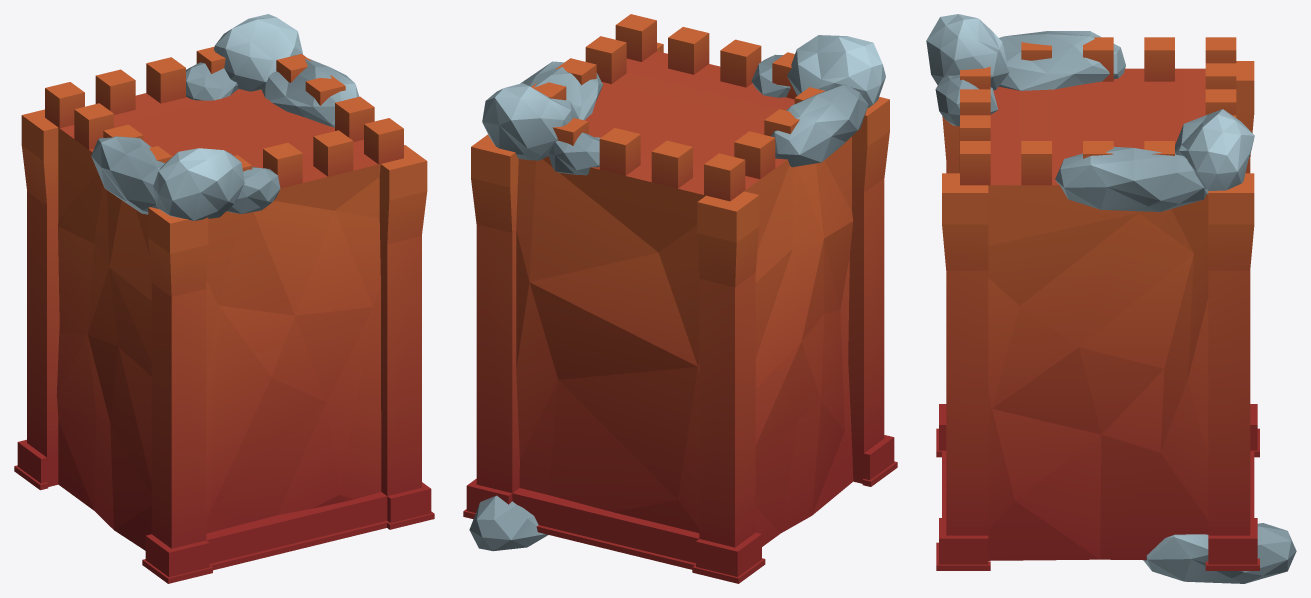
File: SM_Tower_Cube_Big.fbx
3 renders of one model, left to right at view 1: azimuth 30°, elevation 25°; view 2: azimuth 150°, elevation 25°; view 3: azimuth 270°, elevation 25°, orthographic. The views are drawn at different scales.
Parts seen in each view (by area): view 1: SM_Tower_Cube_Big; view 2: SM_Tower_Cube_Big; view 3: SM_Tower_Cube_Big.
Boxes of the visible parts, x1,y1,x2,y2 form: SM_Tower_Cube_Big: [14, 14, 434, 583]; SM_Tower_Cube_Big: [463, 14, 897, 583]; SM_Tower_Cube_Big: [926, 14, 1296, 583].
Size of the model in its own units: 975 by 1476 by 1072.
